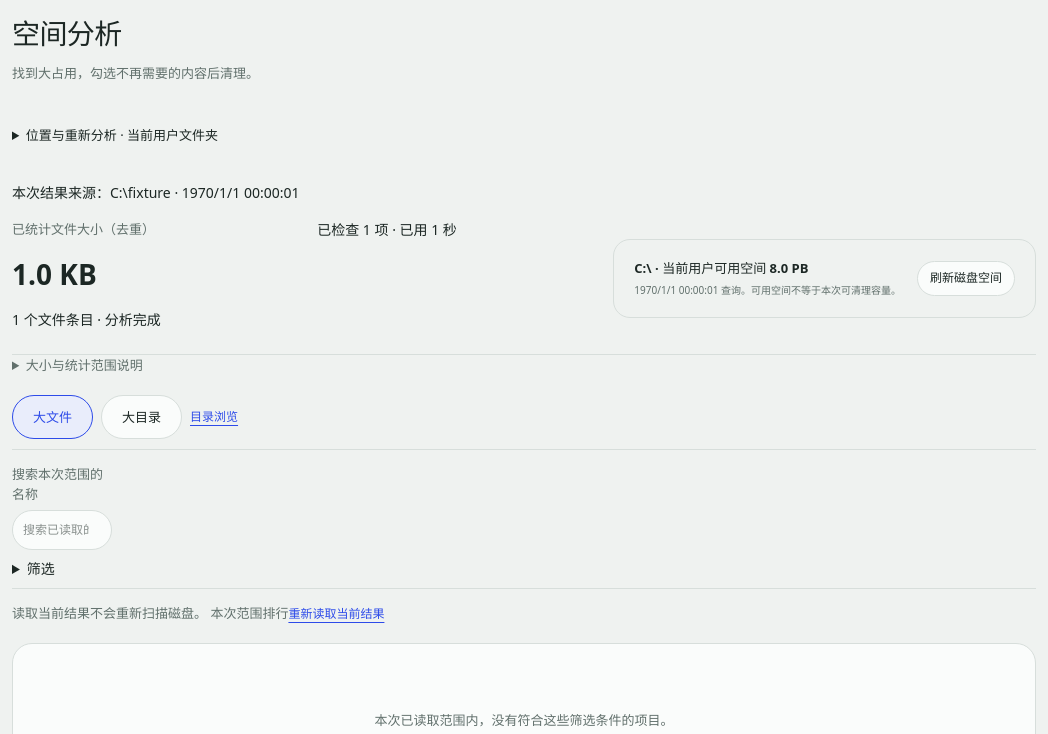
Scenario: folds a previous result when choosing a new location and restores it without starting work
Click the button "目录浏览" at {"x": 214, "y": 417}, box top-left (190, 402), bottom-right (238, 432)
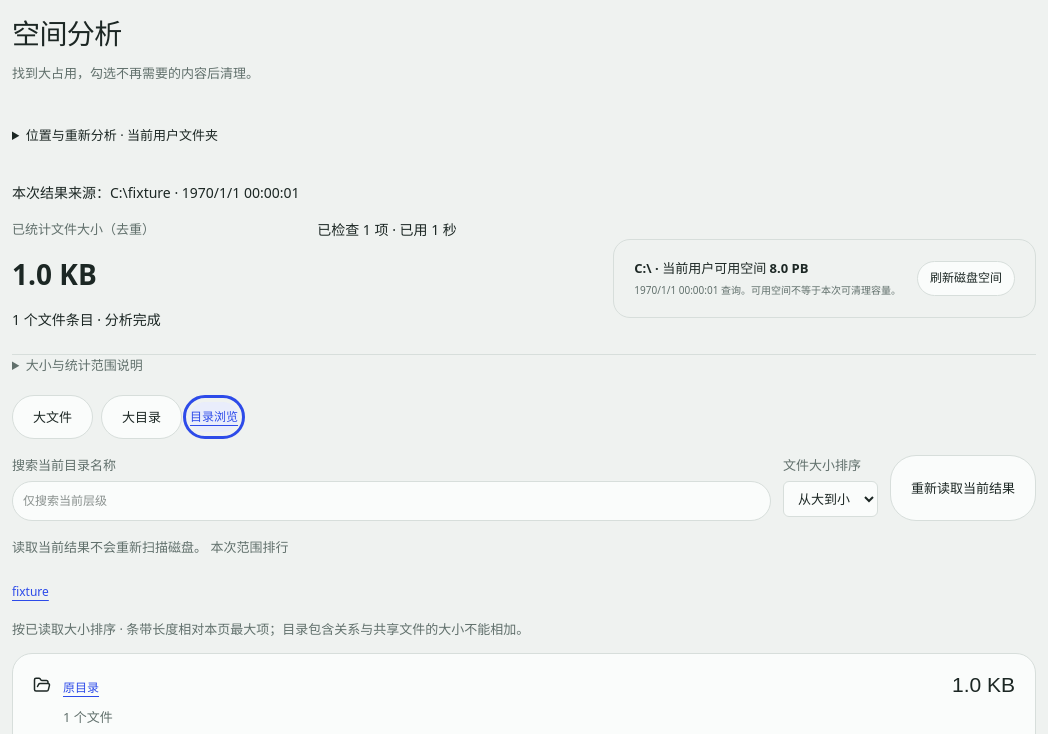
Click the heading "位置与重新分析 · 当前用户文件夹" at {"x": 122, "y": 135}, box top-left (26, 126), bottom-right (218, 144)
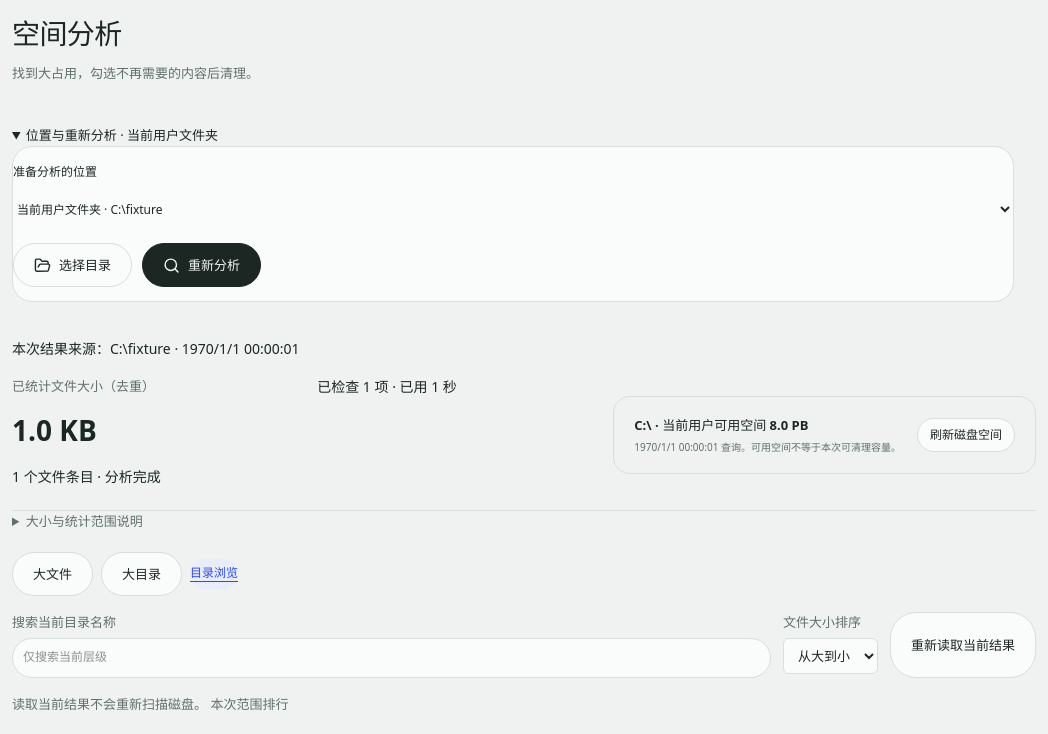
Select "另一个磁盘 · D:\\" in the dropdown labelled "准备分析的位置" at {"x": 513, "y": 209}, box top-left (13, 189), bottom-right (1013, 229)
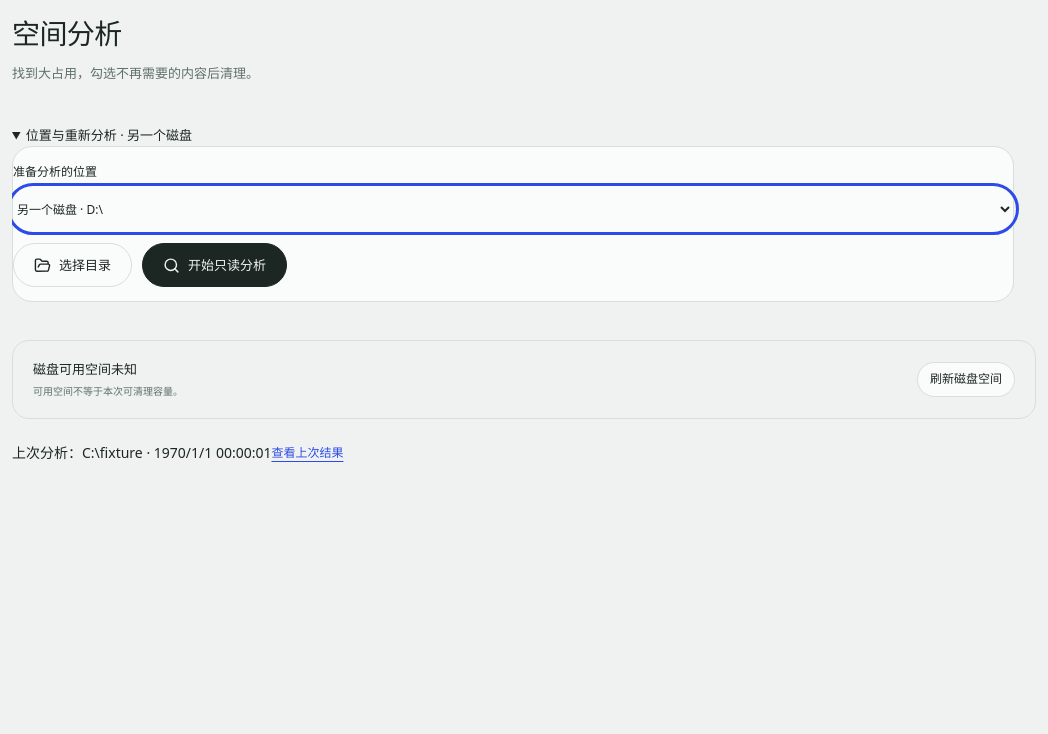
Expected: the element "上次分析" shows "C:\\fixture", top-left (82, 442), bottom-right (143, 462)
Click the button "查看上次结果" at {"x": 308, "y": 454}, box top-left (272, 439), bottom-right (344, 469)
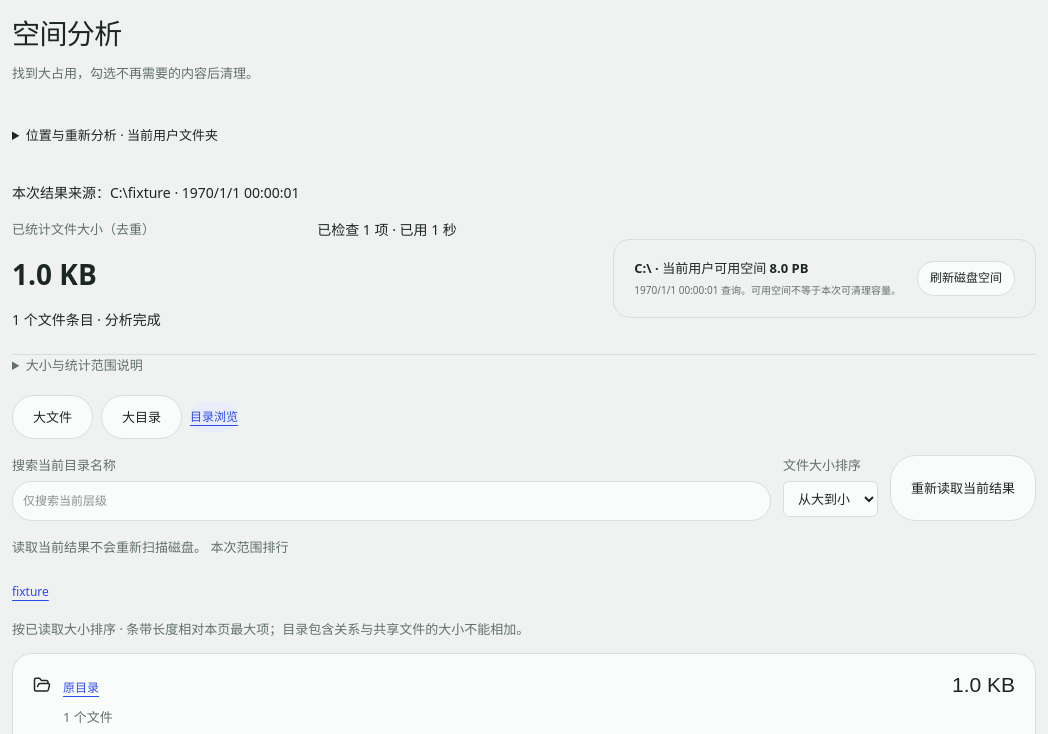
Expected: the button "原目录" is shown, top-left (63, 673), bottom-right (940, 703)
